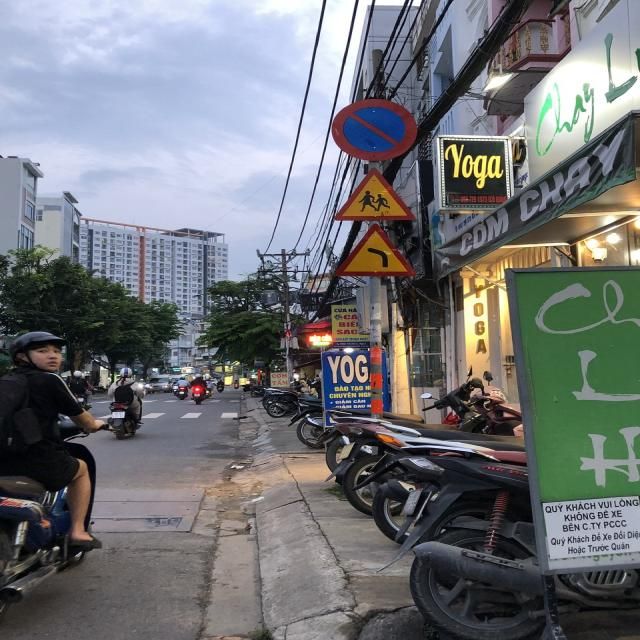Bien bao cam do xe: (326, 92, 423, 164)
Bien bao cho ngoat nguy hiem: (328, 222, 424, 285)
Bien bao tre em: (326, 166, 420, 226)
